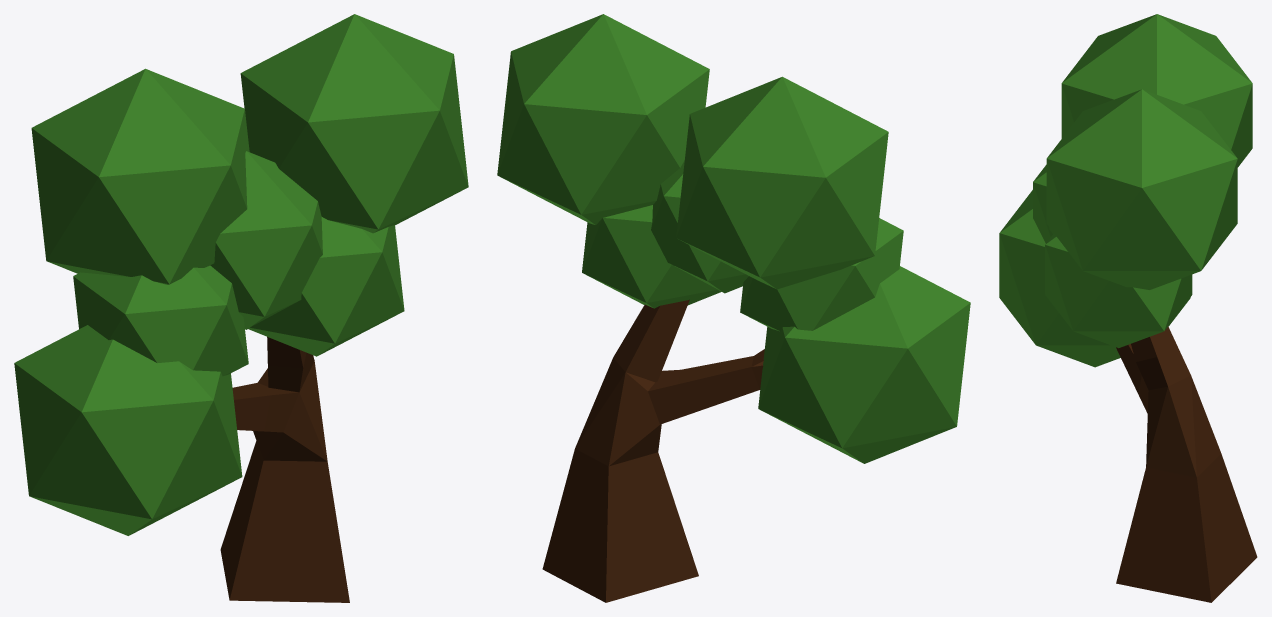
Rendered from Tree.fbx.
3 renders of one model, left to right at view 1: azimuth 30°, elevation 25°; view 2: azimuth 150°, elevation 25°; view 3: azimuth 270°, elevation 25°, orthographic. The views are drawn at different scales.
Parts seen in each view (by area): view 1: Icosphere.001, Icosphere.002, Icosphere, Cube, Icosphere.003, Icosphere.004, Icosphere.005; view 2: Icosphere.001, Icosphere.002, Cube, Icosphere, Icosphere.005, Icosphere.003, Icosphere.004; view 3: Icosphere.002, Cube, Icosphere.001, Icosphere.005, Icosphere, Icosphere.003.
Boxes of the visible parts, <box> form: Icosphere.001: <box>31,68,249,284</box>; Icosphere.002: <box>240,14,468,233</box>; Icosphere: <box>14,325,242,535</box>; Cube: <box>220,337,349,602</box>; Icosphere.003: <box>73,265,248,376</box>; Icosphere.004: <box>210,151,322,329</box>; Icosphere.005: <box>248,217,404,356</box>; Icosphere.001: <box>676,76,888,289</box>; Icosphere.002: <box>497,14,709,224</box>; Cube: <box>542,299,764,602</box>; Icosphere: <box>758,266,970,463</box>; Icosphere.005: <box>582,205,721,308</box>; Icosphere.003: <box>740,218,903,331</box>; Icosphere.004: <box>651,161,748,293</box>; Icosphere.002: <box>1046,89,1237,289</box>; Cube: <box>1116,326,1257,602</box>; Icosphere.001: <box>1061,14,1252,167</box>; Icosphere.005: <box>1045,234,1192,348</box>; Icosphere: <box>999,190,1190,367</box>; Icosphere.003: <box>1033,164,1052,243</box>.
Bounding box in the file's own units: 407 × 493 × 230.
